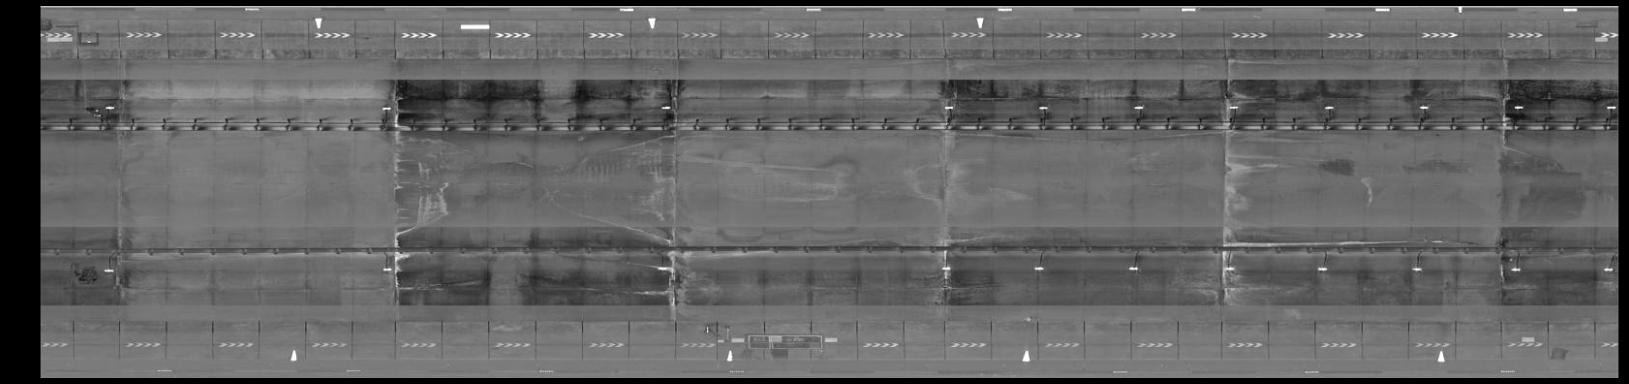light: (1406, 263, 1425, 276), (1029, 262, 1048, 275), (1036, 99, 1053, 113), (375, 264, 397, 275), (648, 263, 672, 273), (1411, 101, 1432, 112), (935, 263, 958, 273), (1223, 102, 1243, 113), (1503, 265, 1524, 275), (1508, 102, 1527, 113), (101, 101, 119, 112), (99, 266, 117, 277), (1219, 264, 1238, 274), (378, 103, 396, 114), (1599, 263, 1614, 275), (1318, 102, 1337, 112), (657, 101, 672, 113), (1129, 102, 1147, 112), (939, 102, 957, 112), (1125, 263, 1142, 273), (1603, 101, 1617, 112), (1313, 265, 1331, 273)
